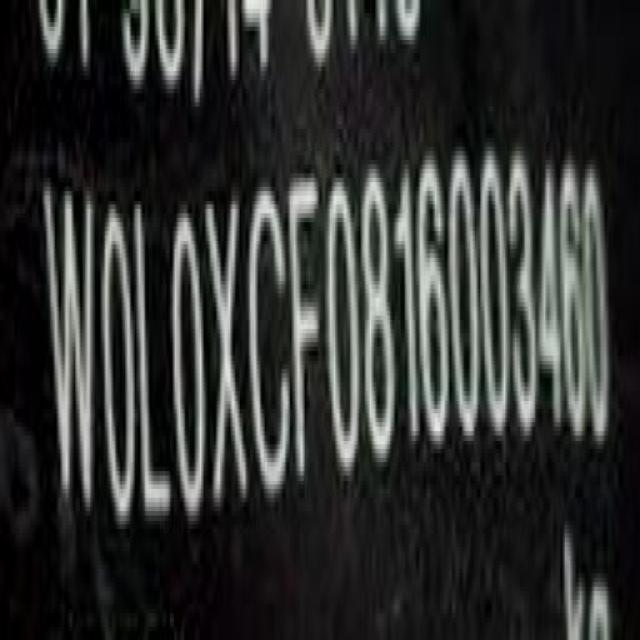0: (170, 198, 208, 529), (102, 195, 138, 537), (327, 172, 363, 479), (450, 149, 482, 445), (480, 152, 510, 442), (585, 162, 615, 448)
1: (396, 160, 418, 465)
3: (510, 152, 539, 442)
4: (540, 153, 564, 443)
6: (416, 155, 450, 455), (558, 157, 584, 446)
8: (362, 165, 395, 476)
C: (248, 186, 291, 509)
F: (287, 175, 323, 482)
L: (133, 195, 168, 532)
W: (42, 185, 100, 539)
X: (208, 196, 248, 520)
